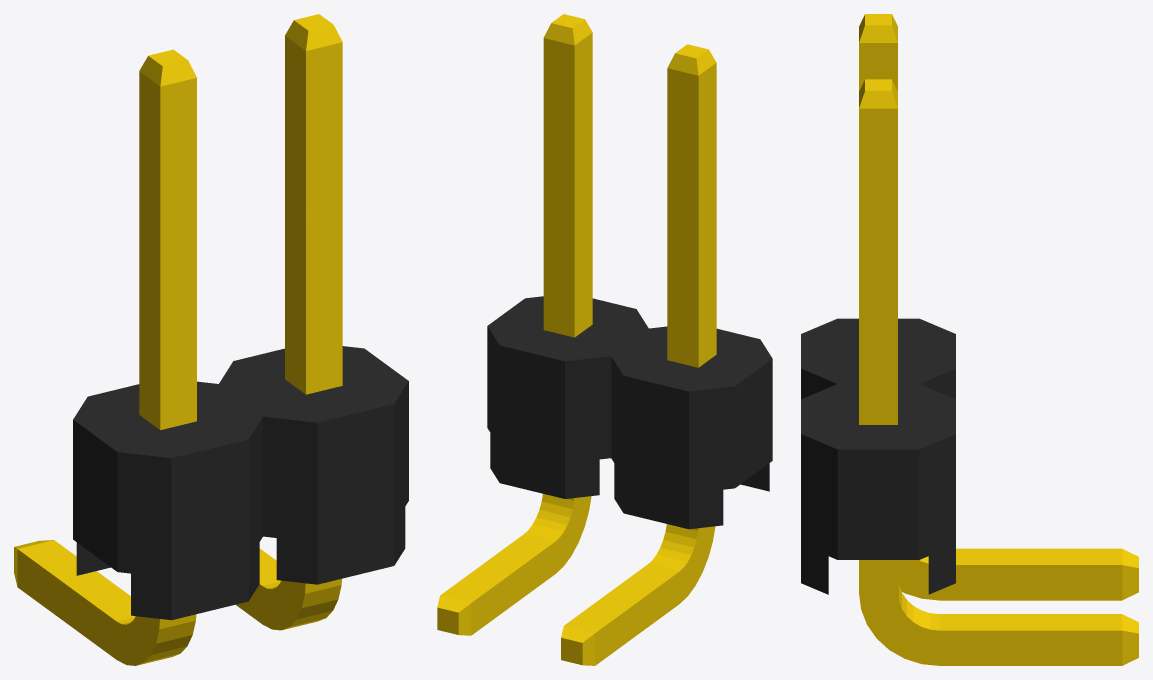
Rendered from PLS-2RD_(DS1022_CONNFLY).obj.
3 views of the same model, side by side, from view 1: azimuth 30°, elevation 25°; view 2: azimuth 150°, elevation 25°; view 3: azimuth 270°, elevation 25° (orthographic). The views are drawn at different scales.
Visible parts, largest first — view 1: PLS-2RD_(DS1022_CONNFLY); view 2: PLS-2RD_(DS1022_CONNFLY); view 3: PLS-2RD_(DS1022_CONNFLY).
Boxes of the visible parts, left/top/right/bottom form: PLS-2RD_(DS1022_CONNFLY): left=14, top=14, right=408, bottom=665; PLS-2RD_(DS1022_CONNFLY): left=437, top=14, right=772, bottom=665; PLS-2RD_(DS1022_CONNFLY): left=801, top=14, right=1138, bottom=665.
Size of the model in its own units: 0.0128 by 0.0261 by 0.0139.
